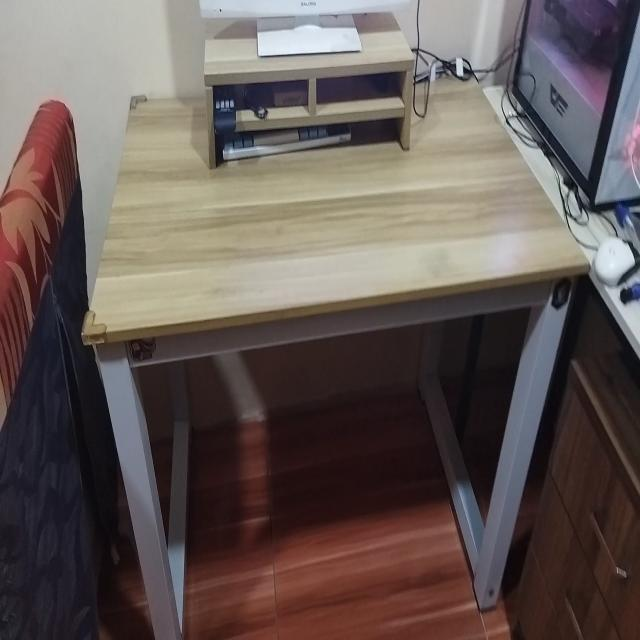table: (98, 87, 568, 640)
